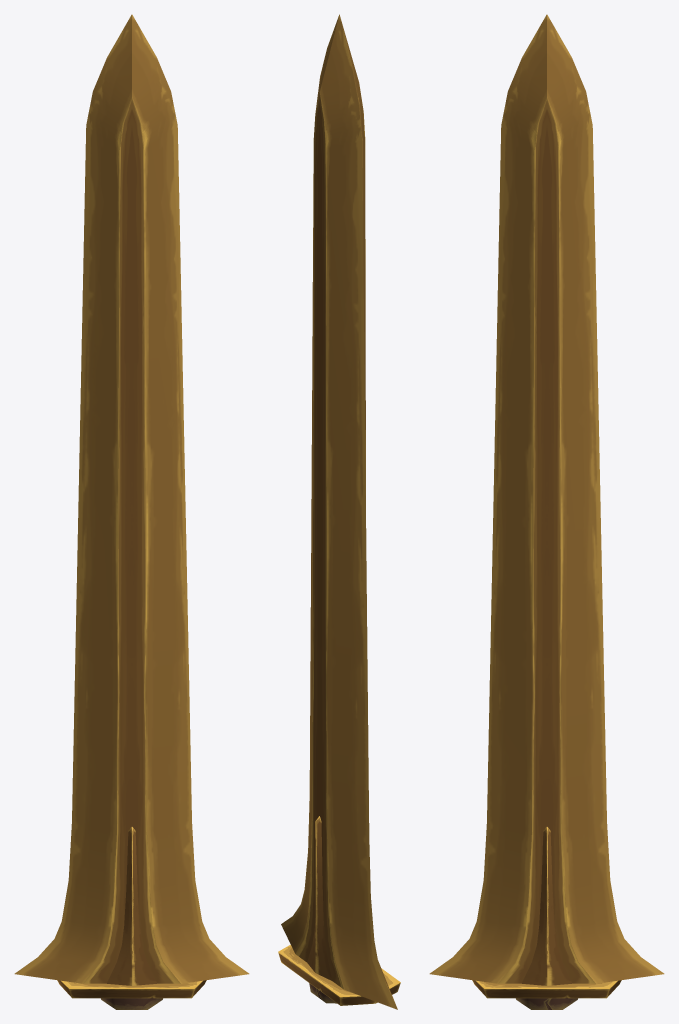
File: SM_WEP_head_sword_battle_28.fbx
The picture shows the model from 3 angles, left to right: view 1: azimuth 90°, elevation 25°; view 2: azimuth 210°, elevation 25°; view 3: azimuth 270°, elevation 25°; orthographic projection.
Parts seen in each view (by area): view 1: SM_WEP_head_sword_battle_28; view 2: SM_WEP_head_sword_battle_28; view 3: SM_WEP_head_sword_battle_28.
Part boxes in pixels (box(x1,y1,x2,y2)): SM_WEP_head_sword_battle_28: box(14, 14, 249, 1009); SM_WEP_head_sword_battle_28: box(278, 14, 400, 1009); SM_WEP_head_sword_battle_28: box(429, 14, 664, 1009).
Bounding box in the file's own units: 8.68 × 134 × 28.98.
